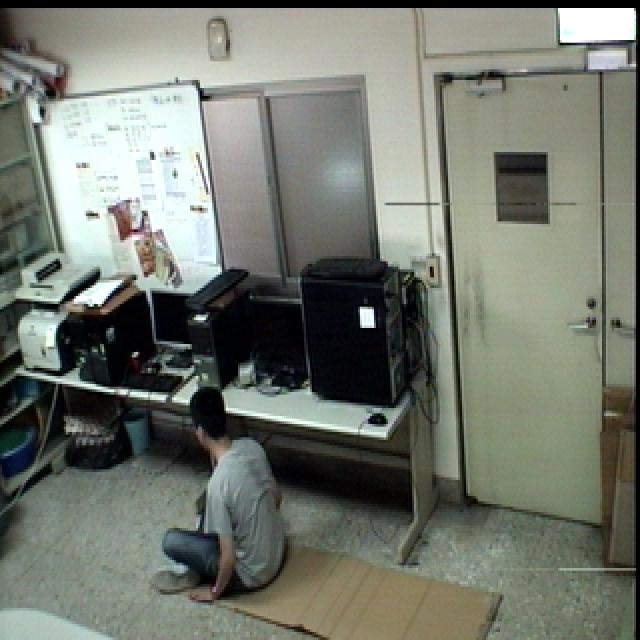sit: (150, 383, 295, 616)
